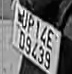1: (35, 21, 41, 41)
3: (37, 46, 45, 68)
4: (39, 24, 47, 48), (30, 42, 38, 62)
9: (24, 36, 33, 59), (44, 49, 52, 71)
D: (17, 30, 26, 53)
E: (46, 28, 55, 51)
P: (27, 13, 35, 35)
U: (22, 12, 28, 31)
